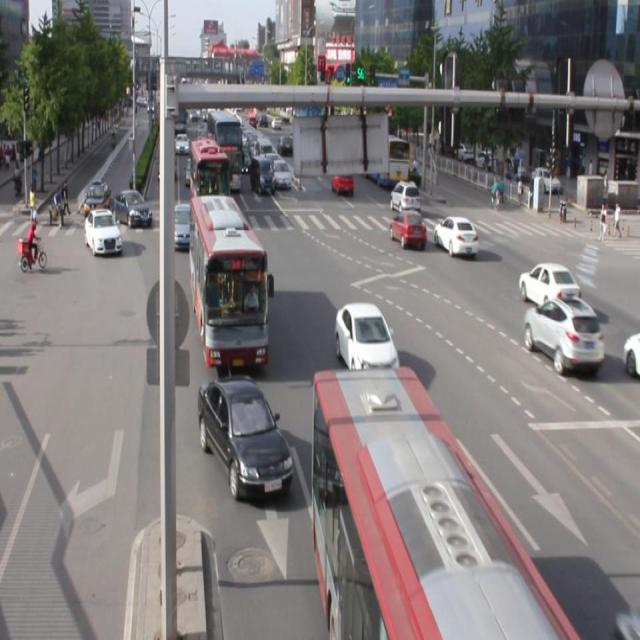car: (199, 376, 294, 498), (522, 293, 605, 375), (334, 300, 398, 378), (517, 260, 581, 314), (432, 214, 478, 258), (387, 208, 426, 246)
van: (311, 367, 579, 640), (191, 197, 269, 366)
